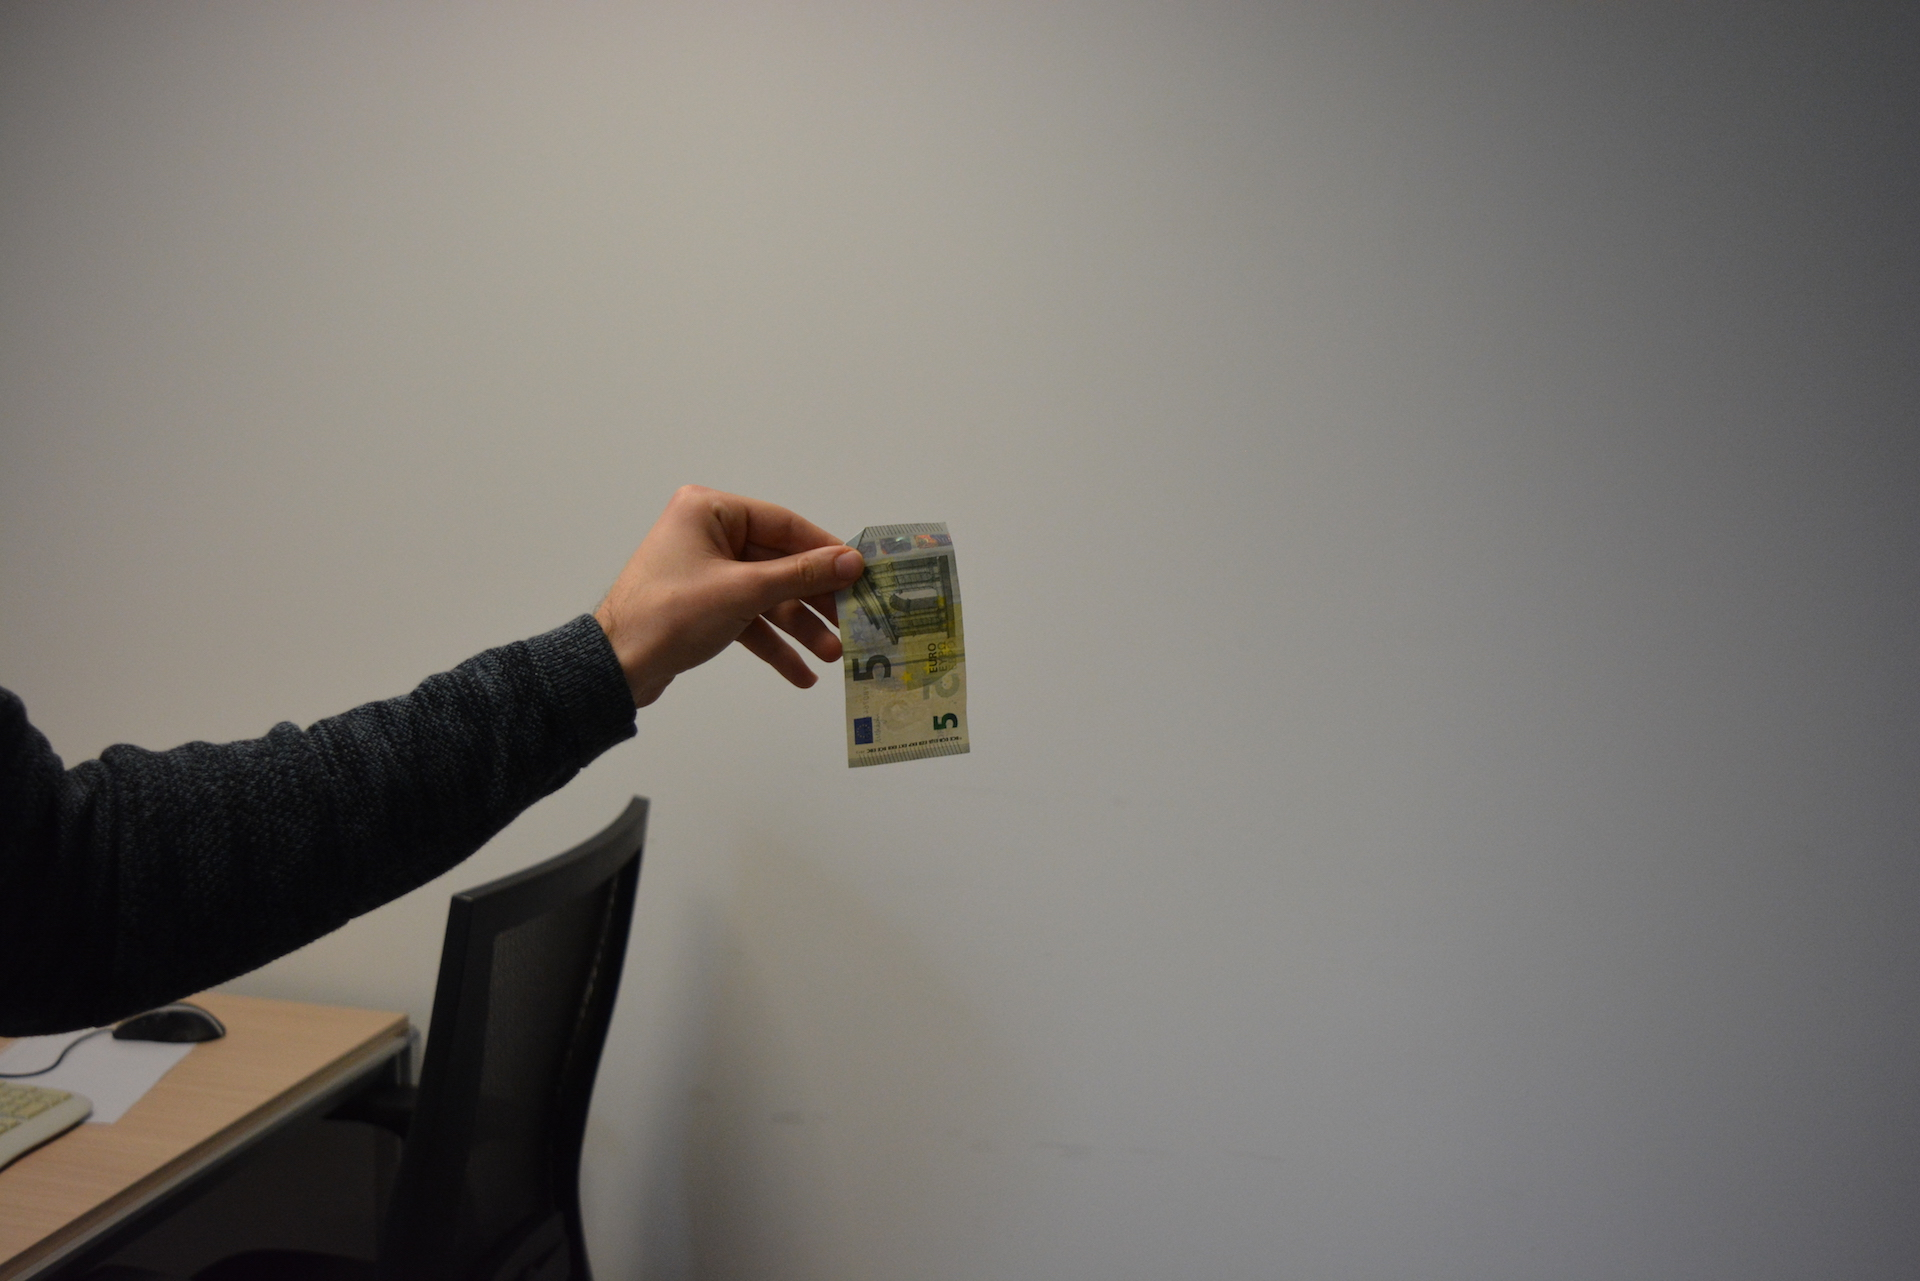billete: (831, 520, 972, 769)
